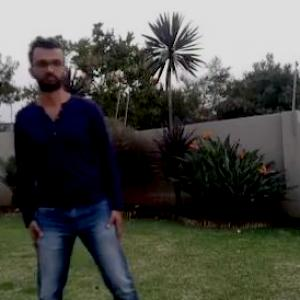follow: (12, 36, 118, 299)
